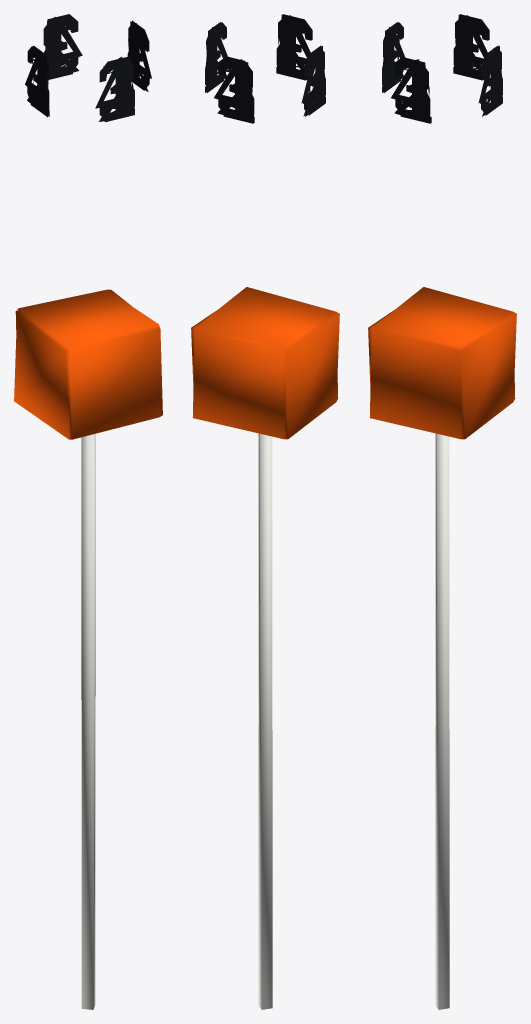
File: down_marker_lod1.glb
3 views of the same model, side by side, from view 1: azimuth 30°, elevation 25°; view 2: azimuth 150°, elevation 25°; view 3: azimuth 330°, elevation 25° (orthographic).
Parts seen in each view (by area): view 1: down_marker_lod1, down_2_lod1, down_4_lod1, down_1_lod1, down_3_lod1; view 2: down_marker_lod1, down_2_lod1, down_1_lod1, down_4_lod1, down_3_lod1; view 3: down_marker_lod1, down_2_lod1, down_1_lod1, down_4_lod1, down_3_lod1.
Part boxes in pixels (bbox=[...]): down_marker_lod1: bbox=[14, 289, 162, 1009]; down_2_lod1: bbox=[27, 14, 148, 121]; down_4_lod1: bbox=[25, 17, 151, 118]; down_1_lod1: bbox=[28, 16, 147, 122]; down_3_lod1: bbox=[27, 25, 149, 117]; down_marker_lod1: bbox=[191, 287, 339, 1009]; down_2_lod1: bbox=[206, 15, 325, 122]; down_1_lod1: bbox=[205, 15, 325, 123]; down_4_lod1: bbox=[205, 14, 325, 123]; down_3_lod1: bbox=[205, 22, 325, 120]; down_marker_lod1: bbox=[368, 287, 516, 1009]; down_2_lod1: bbox=[382, 15, 502, 122]; down_1_lod1: bbox=[382, 15, 502, 123]; down_4_lod1: bbox=[382, 14, 501, 122]; down_3_lod1: bbox=[382, 22, 502, 121].
Size of the model in its own units: 0.374 by 3.43 by 0.374.
